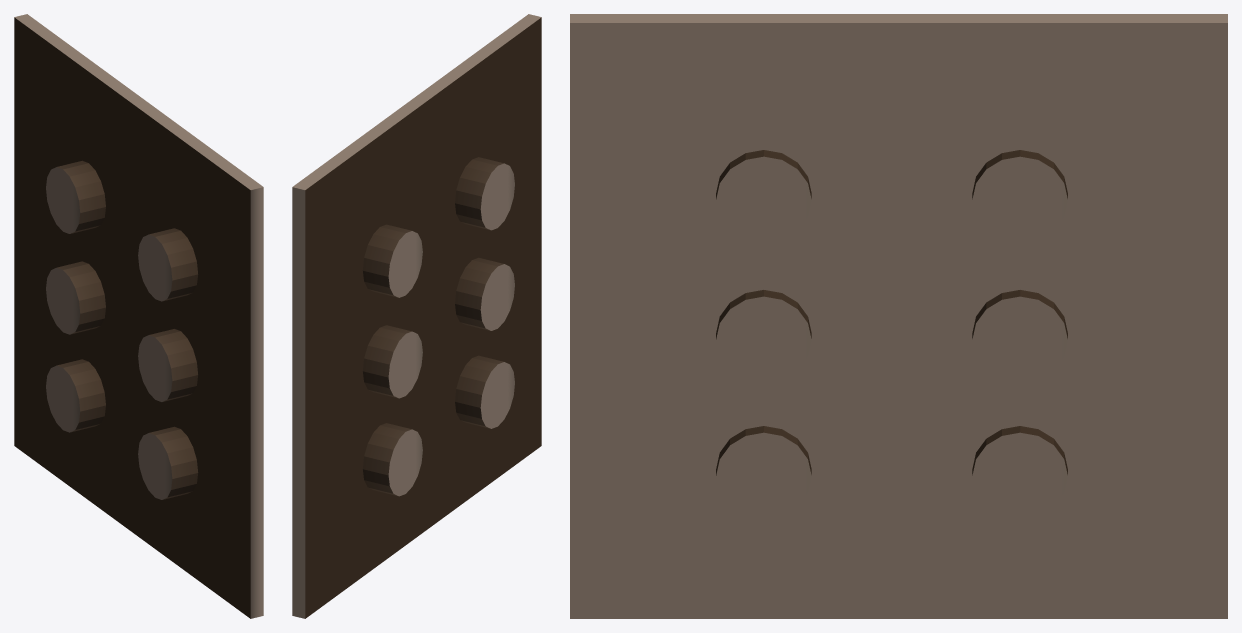
The model's file is MOD_bouton_int.fbx.
3 views of the same model, side by side, from view 1: azimuth 30°, elevation 25°; view 2: azimuth 150°, elevation 25°; view 3: azimuth 270°, elevation 25° (orthographic). The views are drawn at different scales.
Parts seen in each view (by area): view 1: MOD_bouton; view 2: MOD_bouton; view 3: MOD_bouton.
Boxes of the visible parts, x1=… form: MOD_bouton: x1=14, y1=14, x2=263, y2=618; MOD_bouton: x1=292, y1=14, x2=541, y2=618; MOD_bouton: x1=570, y1=14, x2=1227, y2=618.
Size of the model in its own units: 0.0274 by 0.2296 by 0.2296.
